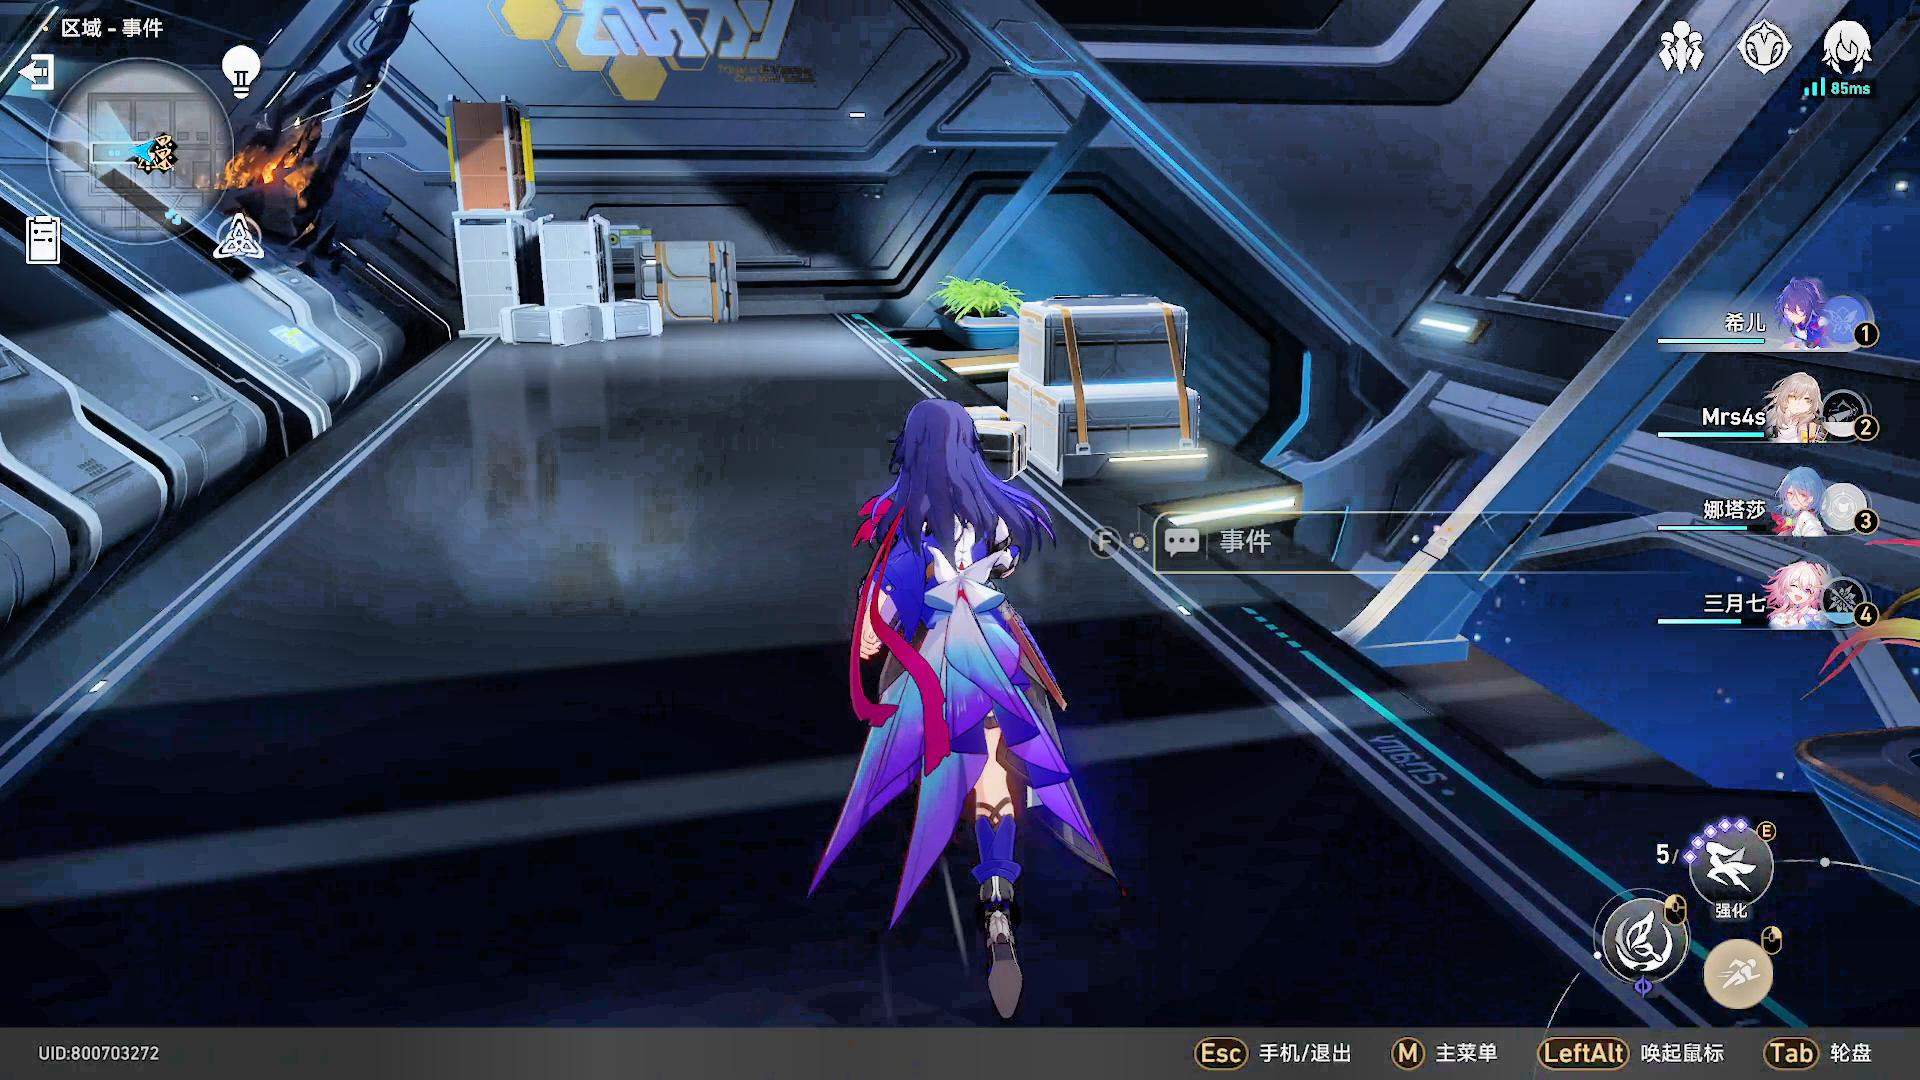Box: (959, 295, 1211, 481)
Self: (806, 401, 1120, 1023)
